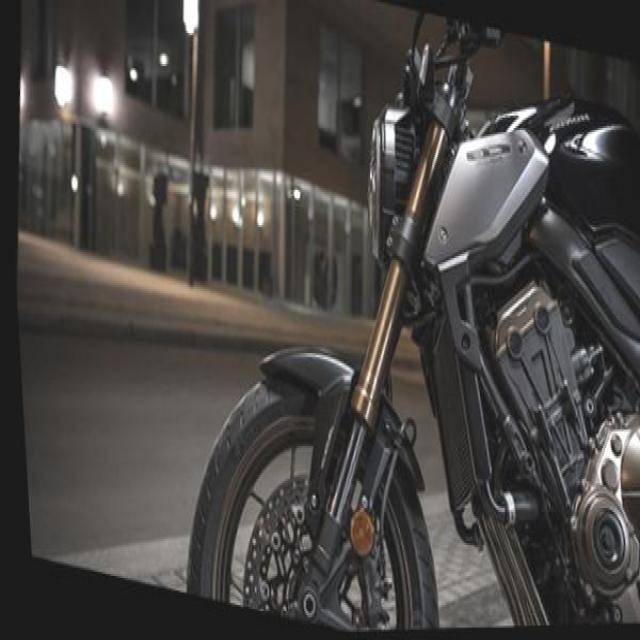CB650R: (150, 0, 639, 636)
